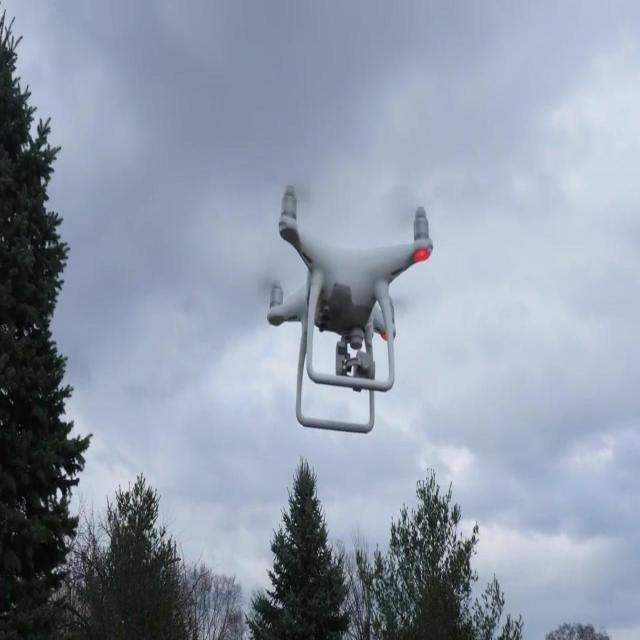drone: (268, 180, 436, 438)
